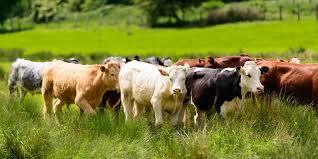cow: (183, 61, 269, 128), (119, 60, 195, 128), (41, 62, 120, 125), (257, 60, 318, 108), (8, 58, 78, 99)
